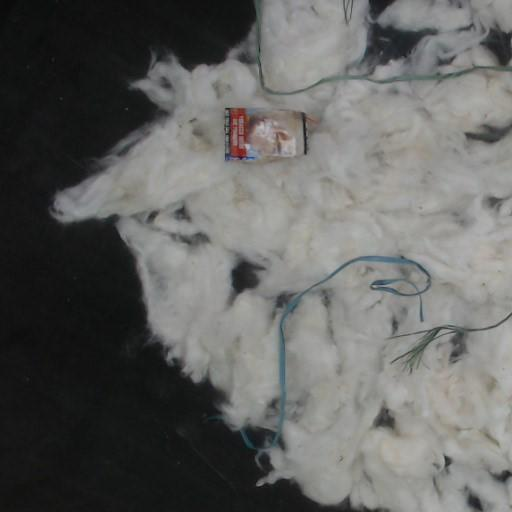conveyor belt: (0, 0, 334, 511)
cotton: (52, 26, 511, 511), (260, 0, 511, 87)
packet: (224, 108, 314, 160)
thread: (257, 256, 431, 452), (258, 52, 511, 95), (448, 312, 511, 333), (255, 0, 261, 47)
